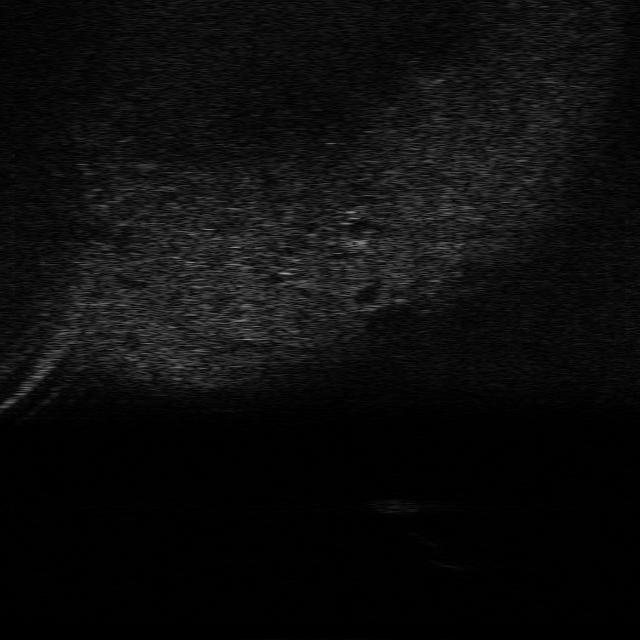cube: (364, 496, 421, 515)
